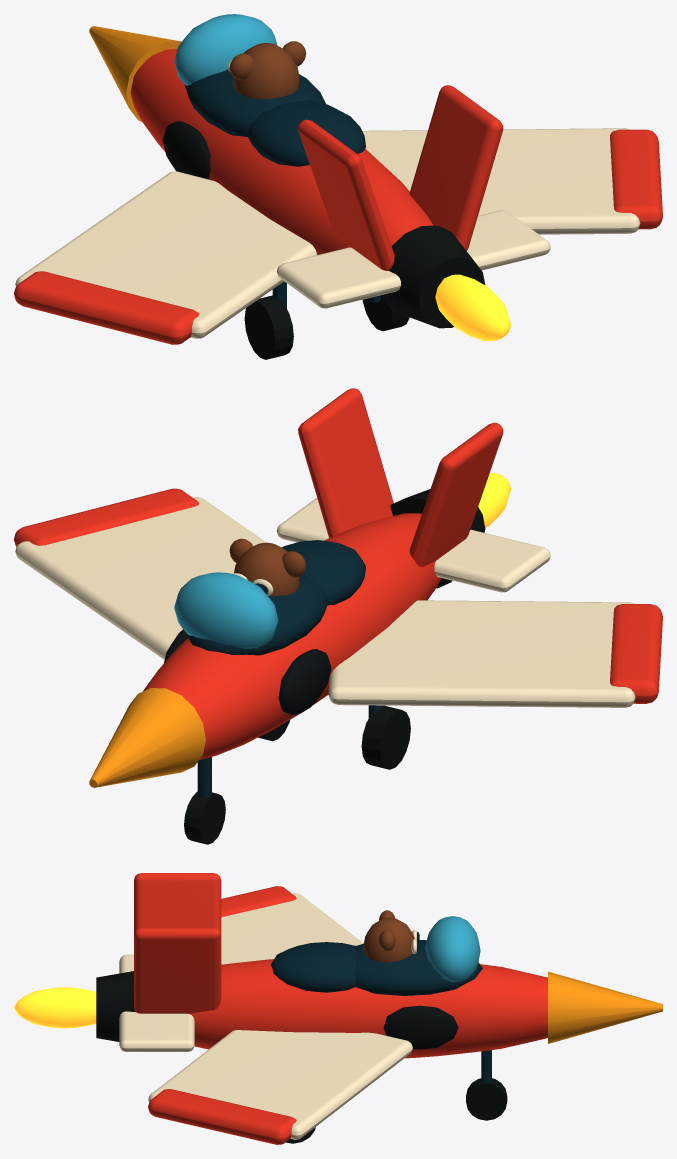
Rendered from zippy-plane.glb.
3 renders of one model, top to bottom at view 1: azimuth 30°, elevation 25°; view 2: azimuth 150°, elevation 25°; view 3: azimuth 270°, elevation 25°, orthographic. The views are drawn at different scales.
Parts seen in each view (by area): view 1: Main wing, Main wing.001, Fuselage, Tail fin.001, Tail wings, Coral wingtip, Tail fin, Jet pipe, Passenger seat, Coral wingtip.001, Windshield, Cockpit (+7 smaller); view 2: Main wing, Fuselage, Main wing.001, Tail fin.001, Nose, Tail fin, Windshield, Tail wings, Coral wingtip, Coral wingtip.001, Cockpit, Passenger seat (+6 smaller); view 3: Fuselage, Main wing.001, Tail fin.001, Main wing, Tail fin, Nose, Coral wingtip.001, Passenger seat, Cockpit, Tail wings, Flame, Windshield (+5 smaller).
Boxes of the visible parts, x1,y1,x2,y2 form: Main wing: (15, 171, 317, 338); Main wing.001: (362, 128, 640, 234); Fuselage: (130, 48, 433, 254); Tail fin.001: (409, 85, 503, 250); Tail wings: (276, 210, 550, 308); Coral wingtip: (14, 271, 199, 344); Tail fin: (298, 119, 394, 270); Jet pipe: (381, 225, 485, 328); Passenger seat: (247, 100, 365, 166); Coral wingtip.001: (610, 129, 662, 229); Windshield: (174, 14, 277, 85); Cockpit: (184, 69, 325, 136); Main wing: (328, 600, 635, 707); Fuselage: (143, 513, 441, 760); Main wing.001: (15, 497, 266, 659); Tail fin.001: (298, 388, 393, 537); Nose: (89, 688, 205, 787); Tail fin: (409, 422, 503, 567); Windshield: (174, 572, 278, 648); Tail wings: (276, 498, 550, 592); Coral wingtip: (610, 604, 662, 703); Coral wingtip.001: (14, 488, 198, 546); Cockpit: (185, 574, 328, 655); Passenger seat: (282, 540, 365, 605); Fuselage: (189, 959, 547, 1058); Main wing.001: (148, 1030, 412, 1139); Tail fin.001: (134, 927, 221, 1013); Main wing: (221, 893, 363, 964); Tail fin: (134, 873, 221, 933); Nose: (548, 971, 662, 1043); Coral wingtip.001: (148, 1089, 296, 1144); Passenger seat: (271, 942, 356, 992); Cockpit: (354, 940, 482, 995); Tail wings: (119, 954, 194, 1051); Flame: (14, 987, 96, 1028); Windshield: (425, 916, 480, 982).
Size of the model in its own units: 4.82 by 1.97 by 5.36.
